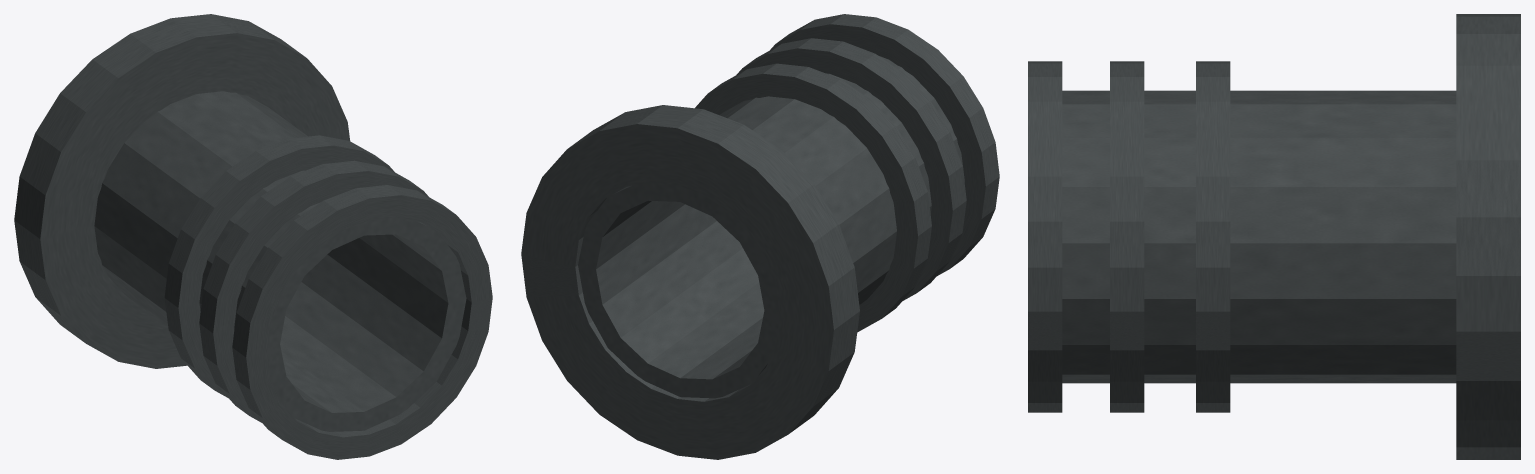
The model's file is Overflow_Hose_Connector.glb.
3 renders of one model, left to right at view 1: azimuth 30°, elevation 25°; view 2: azimuth 150°, elevation 25°; view 3: azimuth 270°, elevation 25°, orthographic. The views are drawn at different scales.
Parts seen in each view (by area): view 1: Reduction_Spout_60mm, 60mm_Male_Groove_Flange, Hose_Barb_3, Hose_Barb_1, Hose_Barb_2; view 2: 60mm_Male_Groove_Flange, Reduction_Spout_60mm, Hose_Barb_1, Hose_Barb_2, Hose_Barb_3; view 3: Reduction_Spout_60mm, 60mm_Male_Groove_Flange, Hose_Barb_1, Hose_Barb_2, Hose_Barb_3.
Part boxes in pixels (x1=…): Reduction_Spout_60mm: x1=94, y1=91, x2=466, y2=431; 60mm_Male_Groove_Flange: x1=14, y1=14, x2=350, y2=368; Hose_Barb_3: x1=232, y1=185, x2=492, y2=459; Hose_Barb_1: x1=164, y1=135, x2=394, y2=398; Hose_Barb_2: x1=199, y1=160, x2=428, y2=422; 60mm_Male_Groove_Flange: x1=521, y1=105, x2=859, y2=459; Reduction_Spout_60mm: x1=578, y1=55, x2=964, y2=398; Hose_Barb_1: x1=695, y1=63, x2=931, y2=332; Hose_Barb_2: x1=736, y1=38, x2=966, y2=300; Hose_Barb_3: x1=770, y1=14, x2=999, y2=275; Reduction_Spout_60mm: x1=1062, y1=90, x2=1456, y2=383; 60mm_Male_Groove_Flange: x1=1456, y1=14, x2=1520, y2=459; Hose_Barb_1: x1=1196, y1=61, x2=1230, y2=412; Hose_Barb_2: x1=1110, y1=61, x2=1144, y2=412; Hose_Barb_3: x1=1028, y1=61, x2=1062, y2=412.
Bounding box in the file's own units: 0.104 × 0.104 × 0.1145.
1 material, 1 textured.
